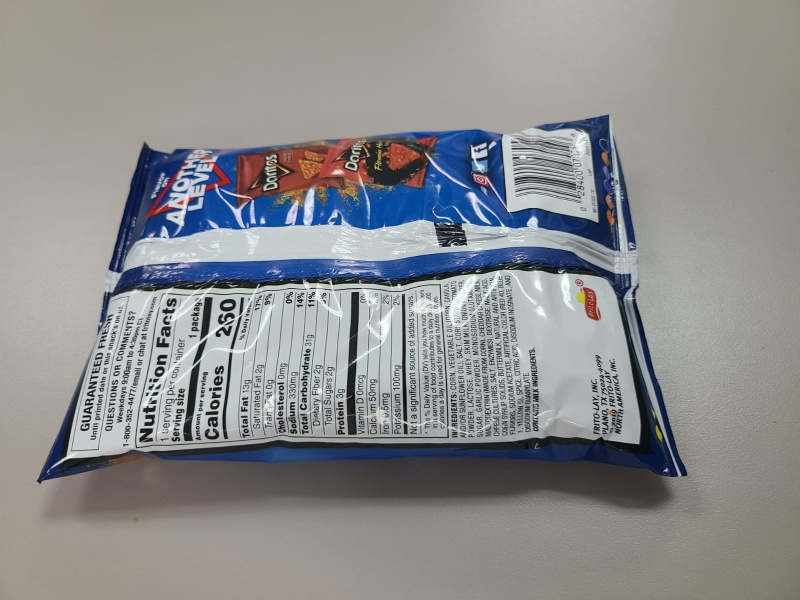doritos: (36, 111, 686, 485)
